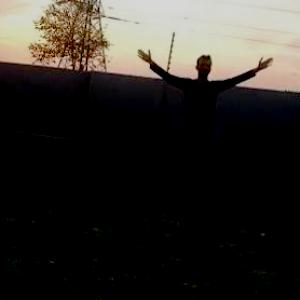takeoff: (142, 53, 264, 190)
